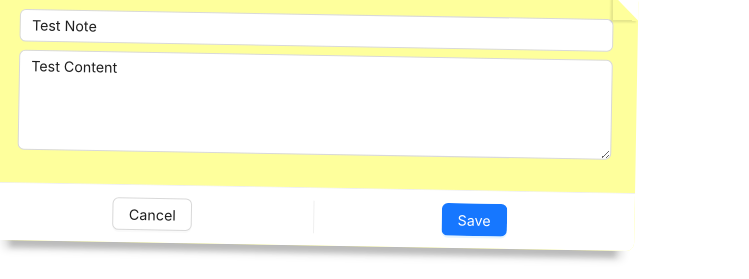
UnsavedNote › shows validation error for empty content
Clear the text box showing "Test Content". click: (315, 105)
box: top-left (18, 50), bottom-right (613, 160)
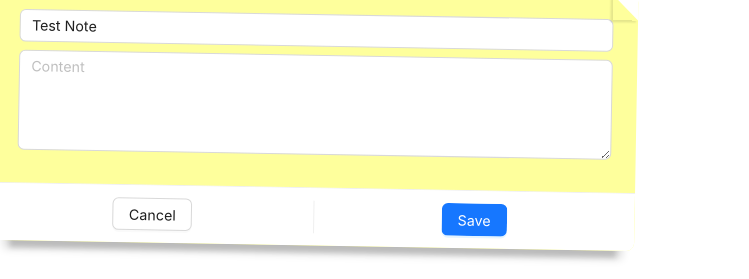
Click the button "Save". click: (474, 220)
box: top-left (441, 203), bottom-right (507, 237)
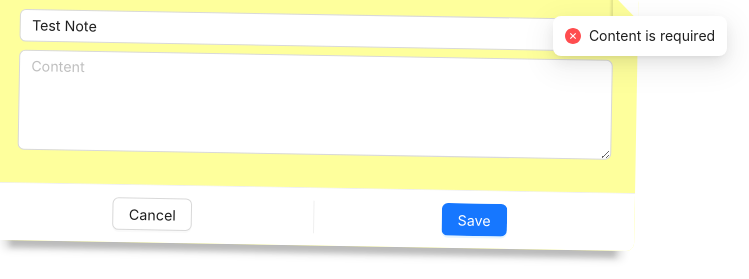
Check: the text "Content is required" is shown, box top-left (589, 25), bottom-right (715, 47)
